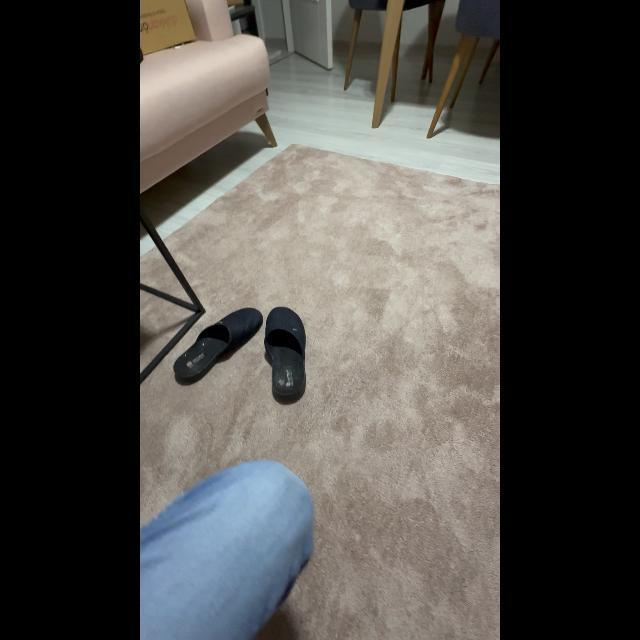slipper: (168, 304, 266, 390), (262, 301, 316, 413)
